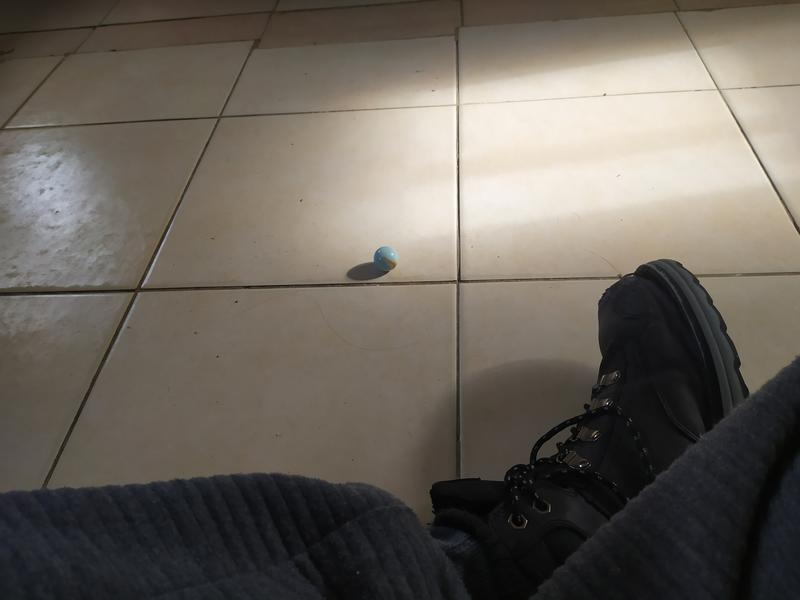Warning: (371, 244, 401, 273)
